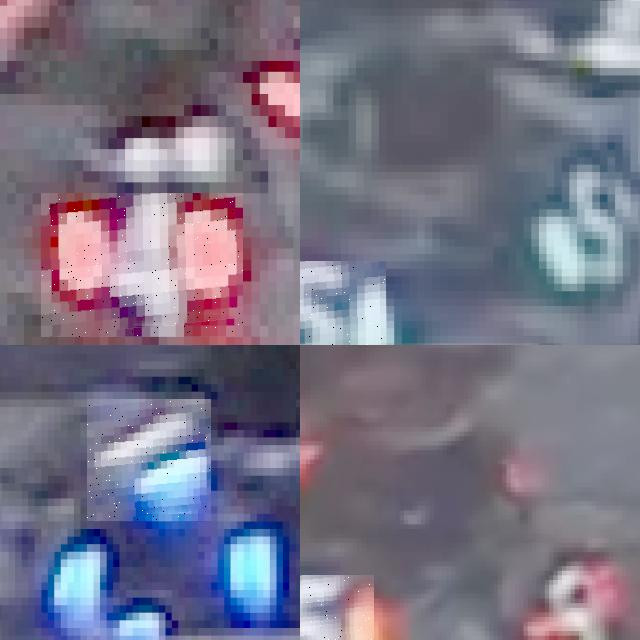B1: (87, 399, 211, 522), (230, 498, 300, 620)
B5: (516, 142, 640, 291), (300, 261, 386, 345)
R4: (41, 193, 243, 337)
R5: (531, 552, 617, 640), (300, 575, 374, 640)
